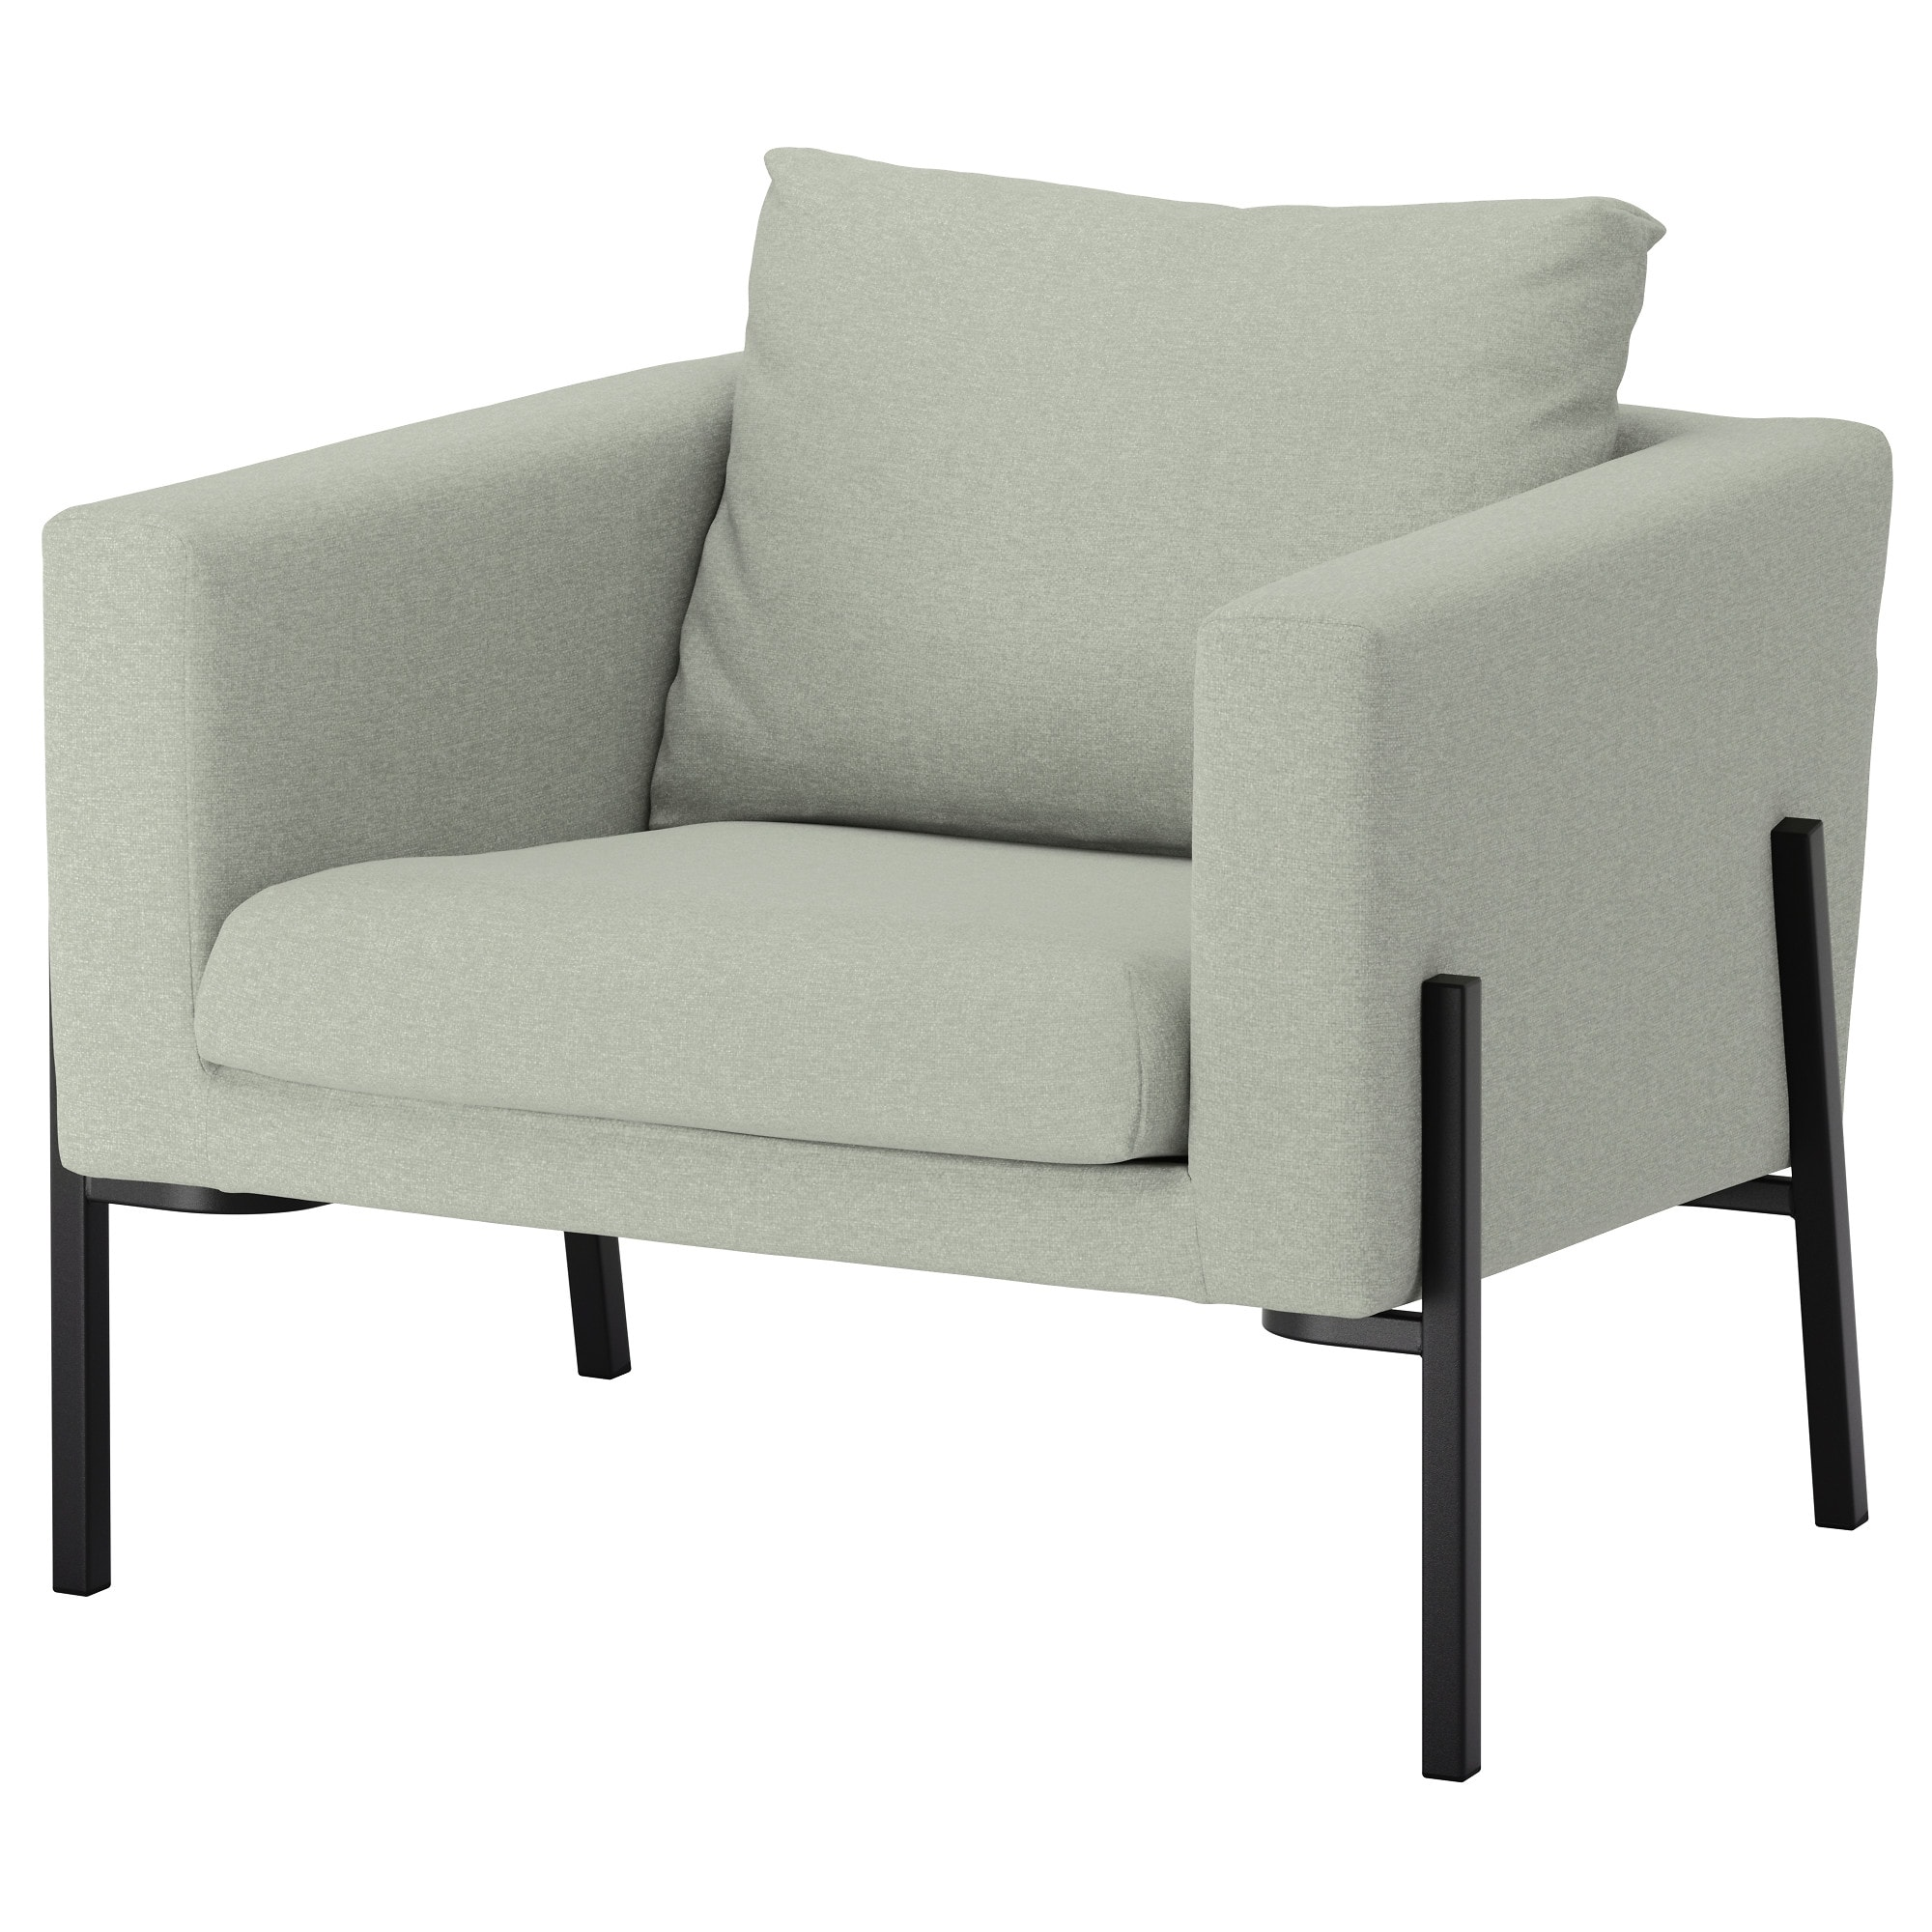chairs: (34, 103, 1897, 1783)
